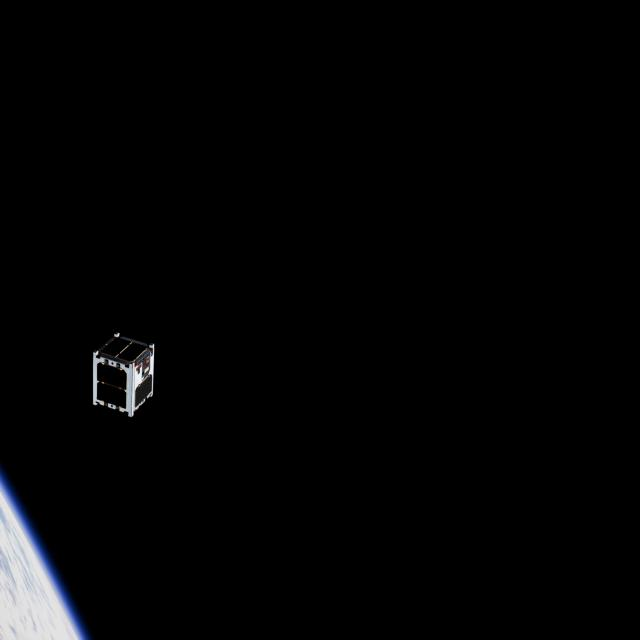medium_debris: (84, 330, 170, 420)
